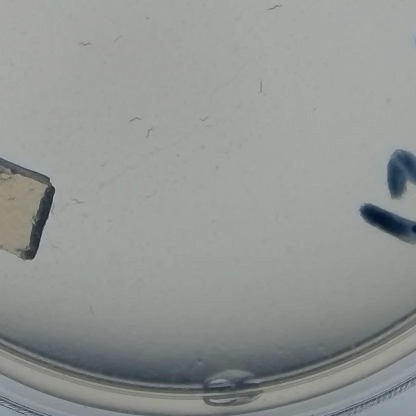worm: (194, 107, 226, 130), (251, 66, 275, 96), (123, 112, 148, 128), (69, 192, 89, 210), (112, 25, 133, 42), (141, 124, 164, 139), (143, 184, 162, 202), (71, 37, 94, 51), (262, 0, 287, 12), (81, 303, 101, 316)
